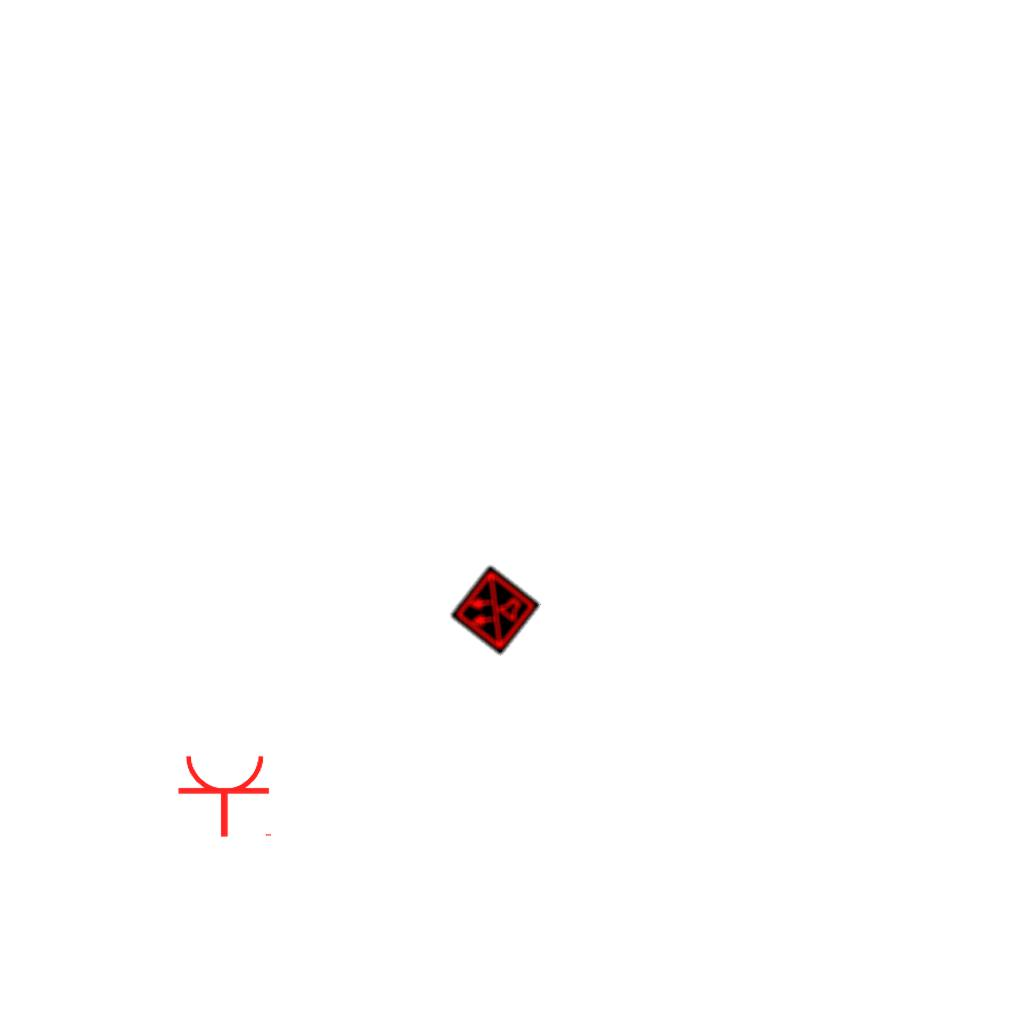OKW_Multisensormelder_(Kombination_optischer_Rauch-Kahlenmonoxid_Waerme-Melder): (448, 563, 542, 657)
Schukosteckdose_einfach: (176, 752, 276, 839)
